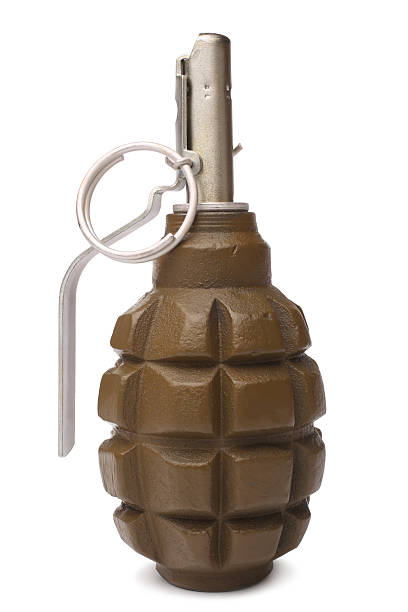e1: (56, 36, 331, 593)
